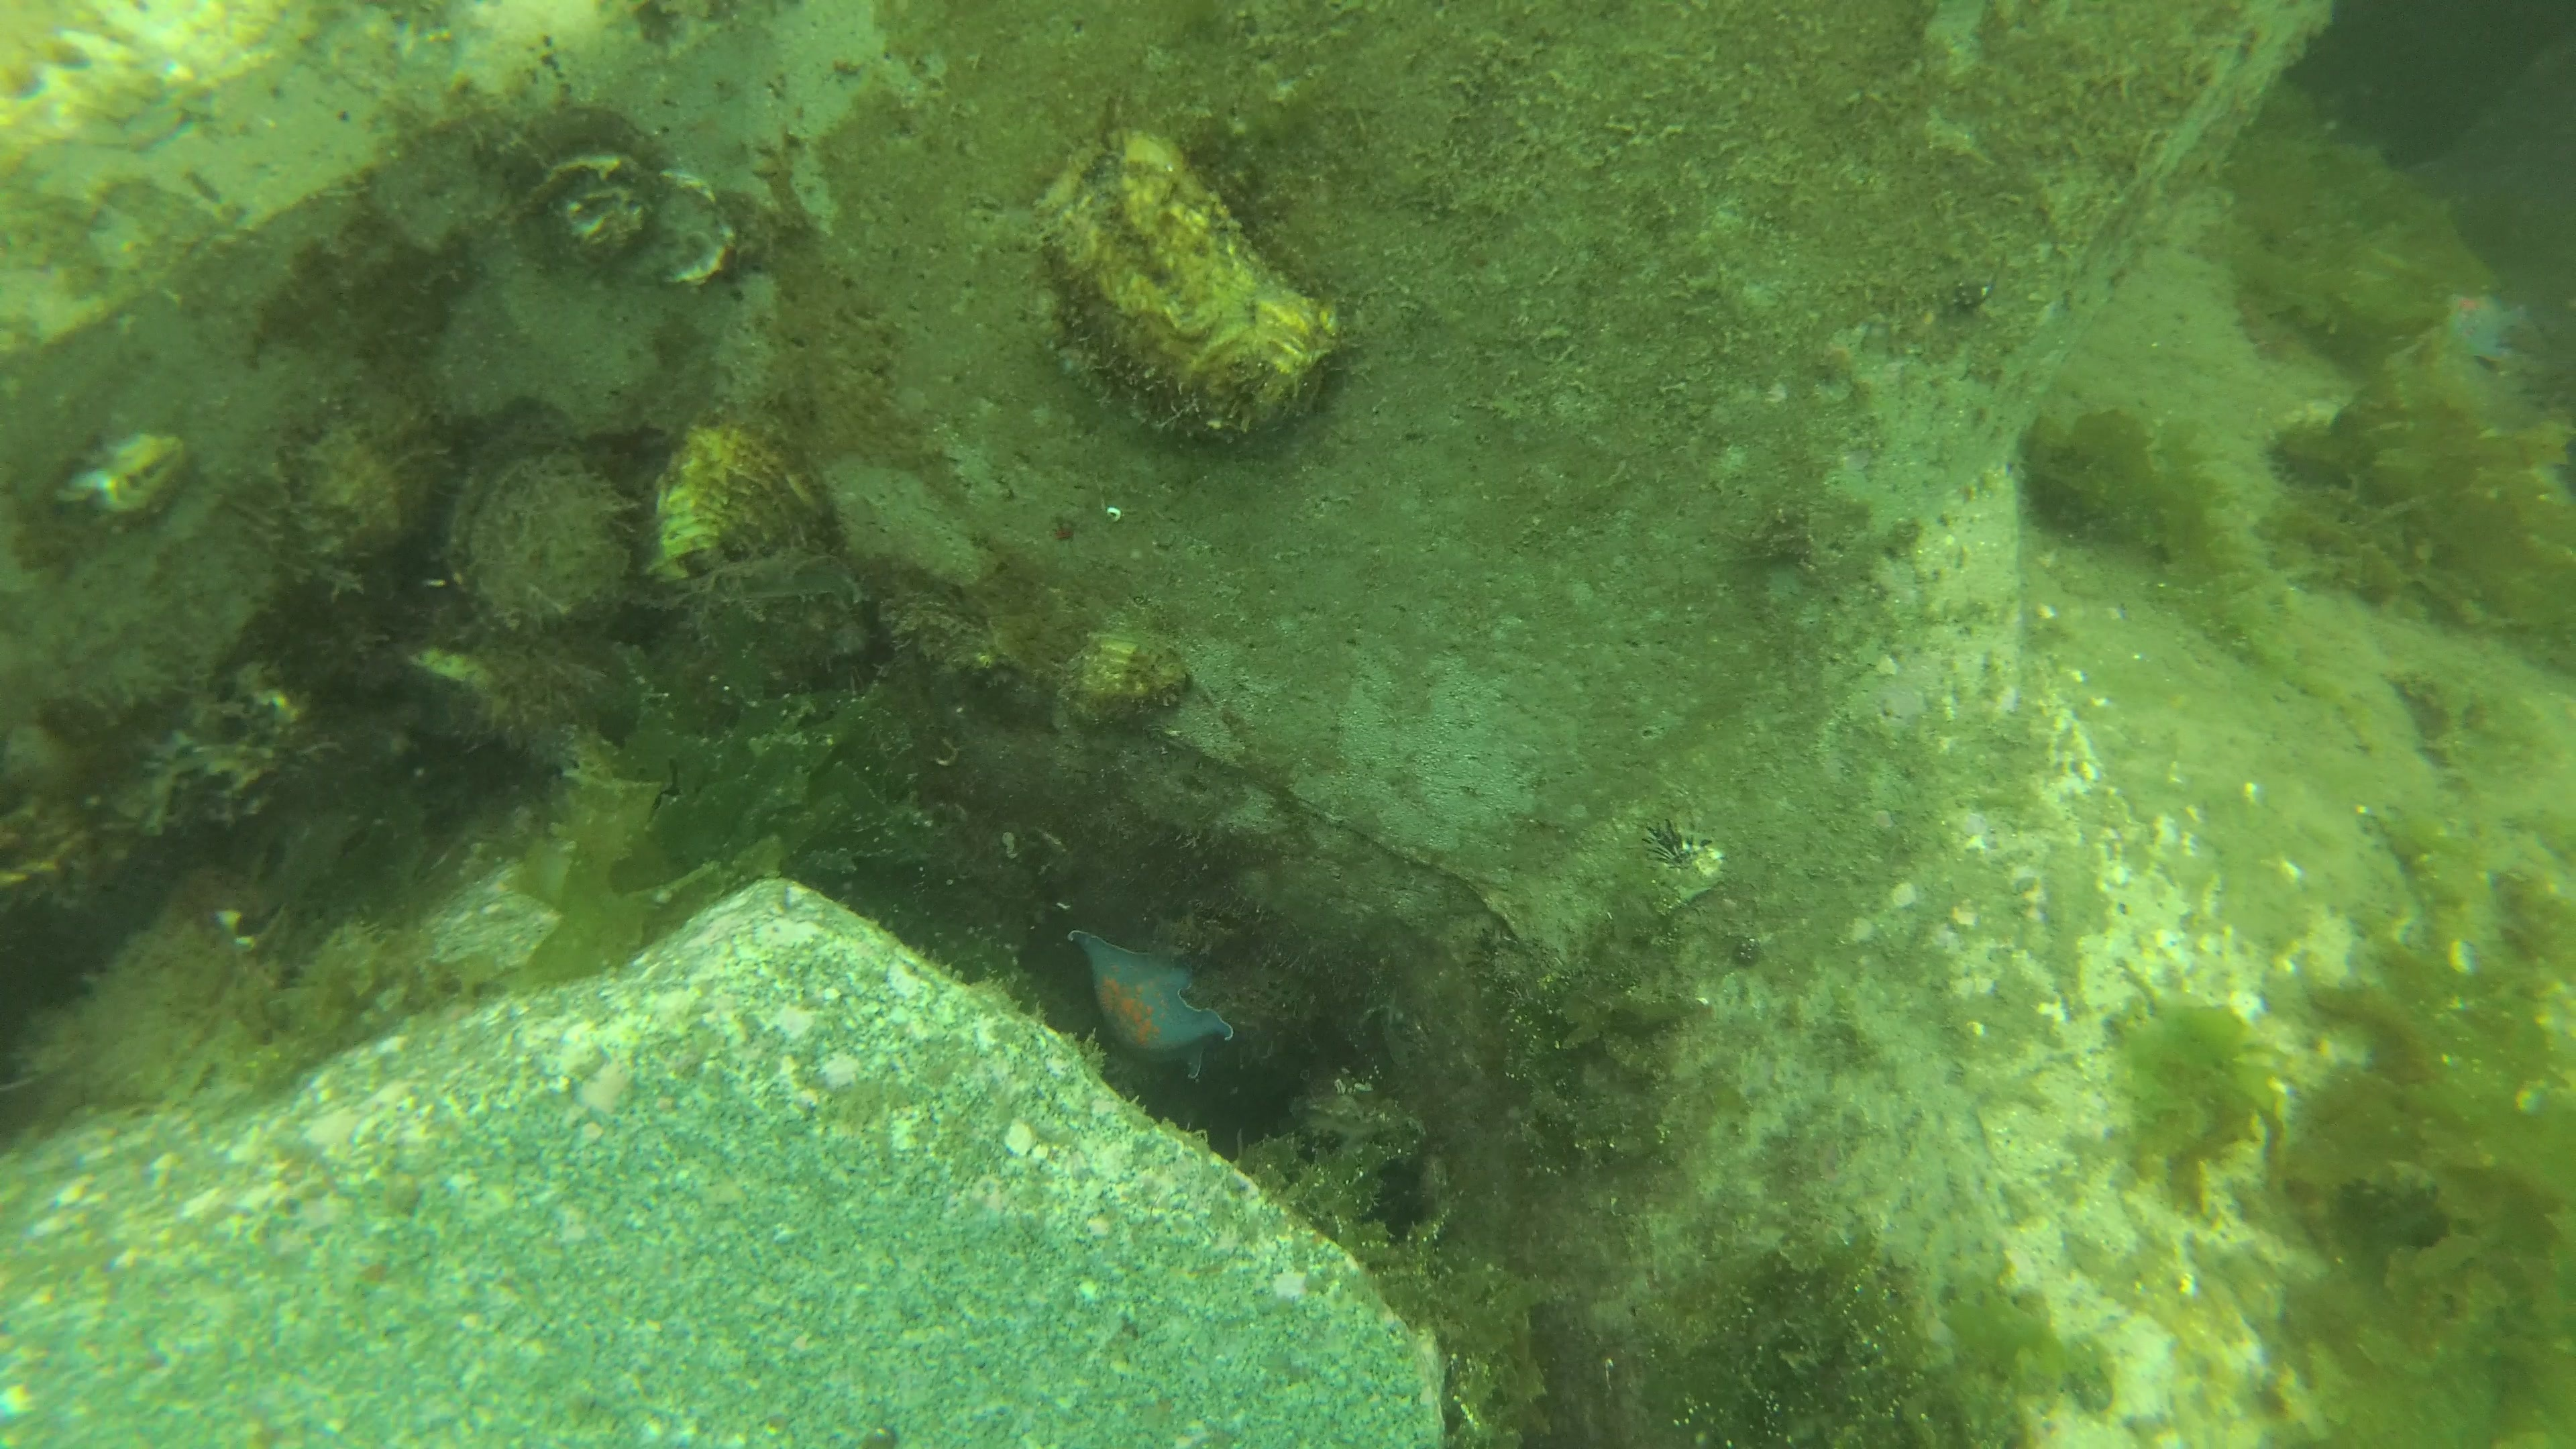starfish: (1060, 922, 1238, 1088), (2436, 285, 2528, 375)
